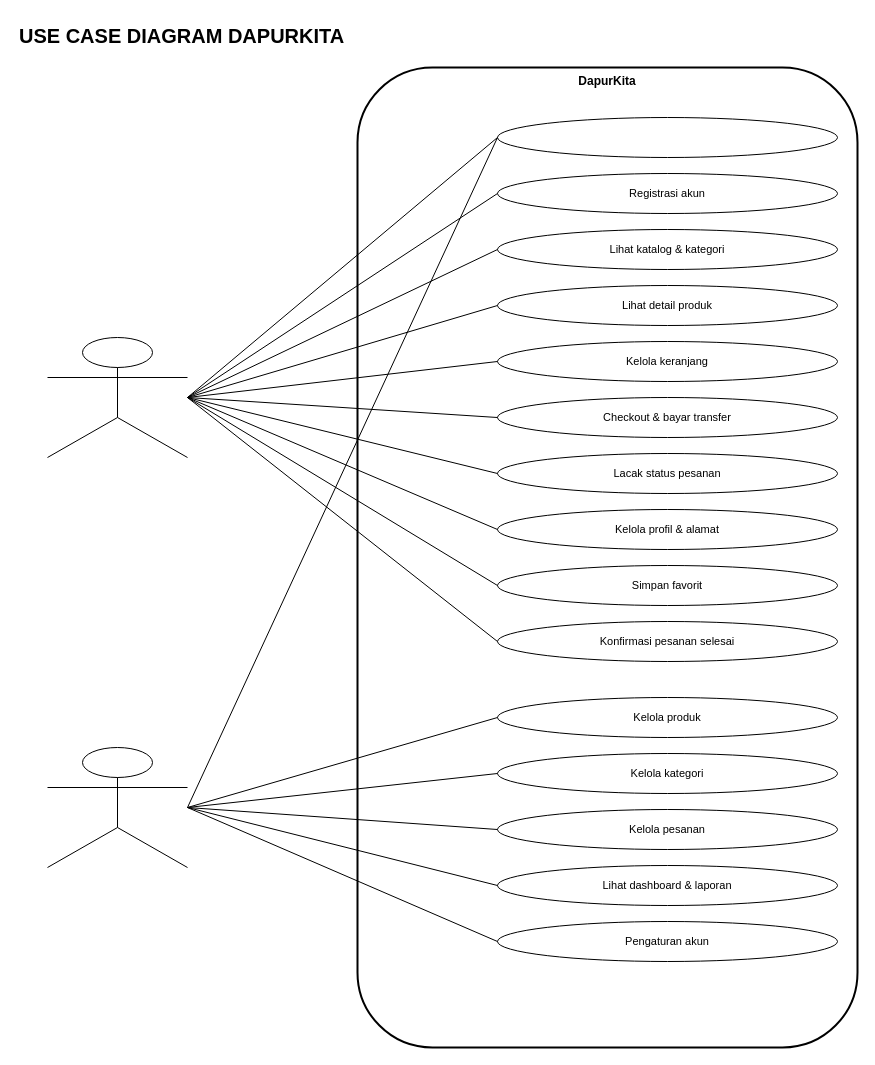
This 875x1065 diagram has some shape labels left out. Here are the shapes that lost their labels. From the top down, the centre of each, then its label:
the point at 667,137: Login
the point at 117,397: Customer
the point at 117,807: Admin
